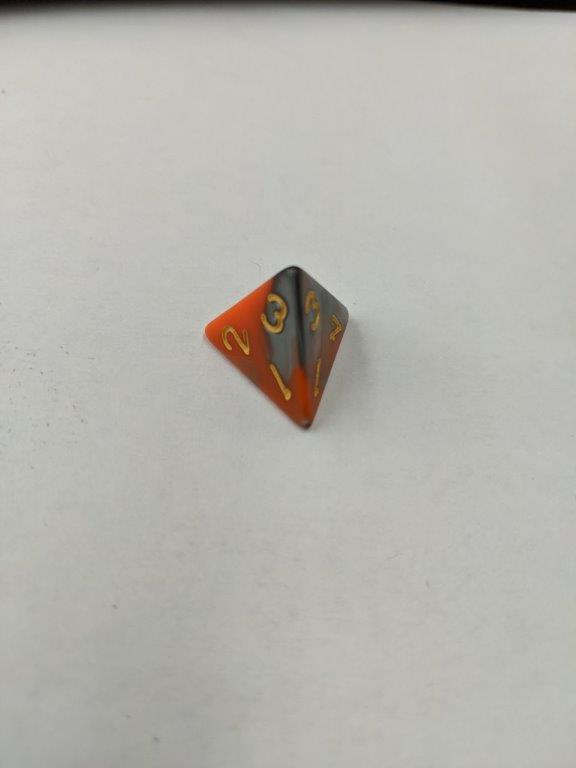d4-3: (201, 261, 353, 433)
